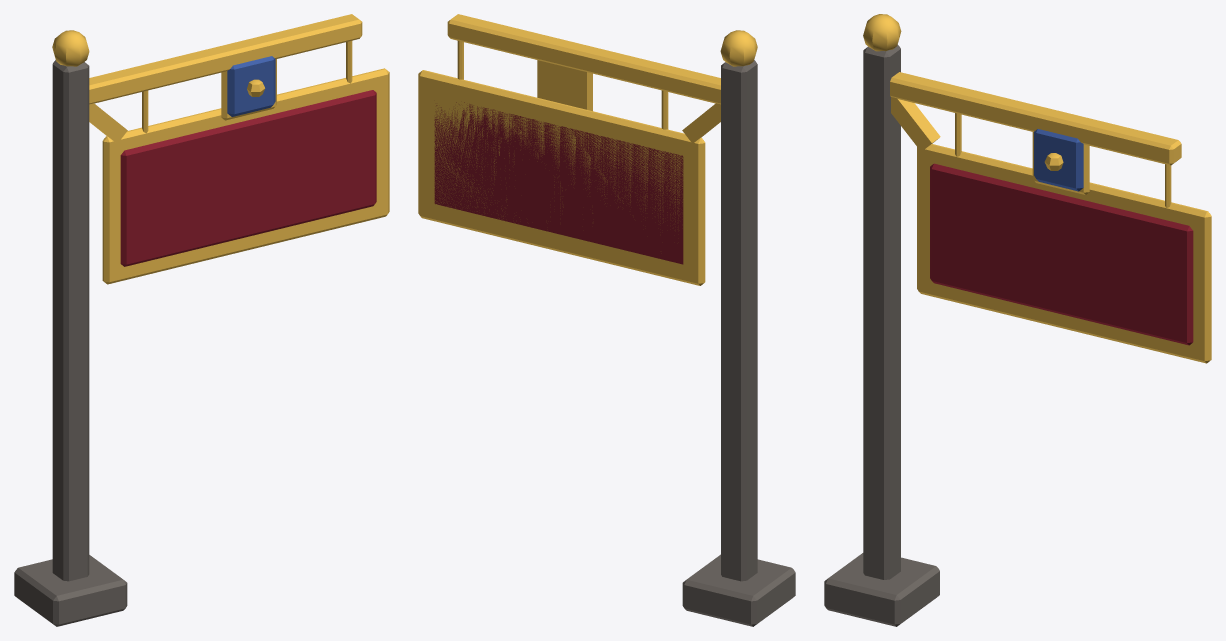
File: PR_Sign_4.fbx
The picture shows the model from 3 angles, left to right: view 1: azimuth 30°, elevation 25°; view 2: azimuth 150°, elevation 25°; view 3: azimuth 330°, elevation 25°; orthographic projection. The views are drawn at different scales.
Parts seen in each view (by area): view 1: PR_Sign_4; view 2: PR_Sign_4; view 3: PR_Sign_4.
Part boxes in pixels (bbox=[...]): PR_Sign_4: bbox=[14, 14, 389, 626]; PR_Sign_4: bbox=[418, 14, 795, 626]; PR_Sign_4: bbox=[824, 14, 1211, 626].
Size of the model in its own units: 1.92 by 2.95 by 0.4.
1 material, 1 textured.
